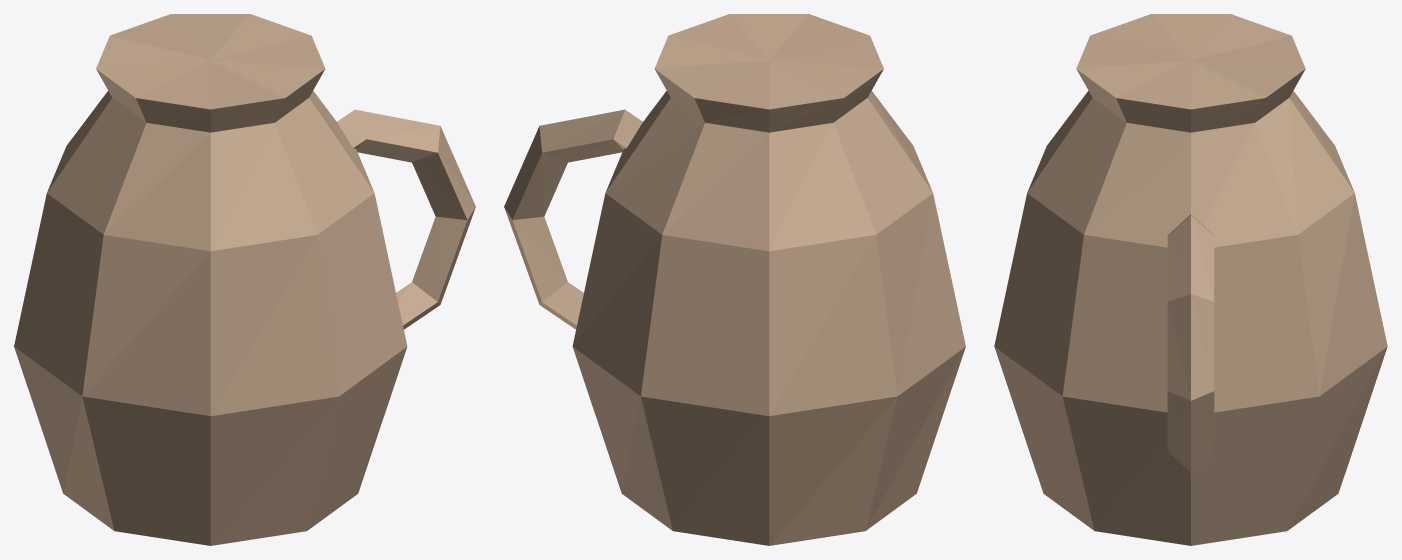
The model's file is jug.glb.
The picture shows the model from 3 angles, left to right: view 1: azimuth 30°, elevation 25°; view 2: azimuth 150°, elevation 25°; view 3: azimuth 270°, elevation 25°; orthographic projection.
Visible parts, largest first — view 1: jug; view 2: jug; view 3: jug.
Boxes of the visible parts, x1,y1,x2,y2 form: jug: [14, 14, 475, 545]; jug: [504, 14, 965, 545]; jug: [994, 14, 1387, 545].
Size of the model in its own units: 0.2968 by 0.28 by 0.2364.
